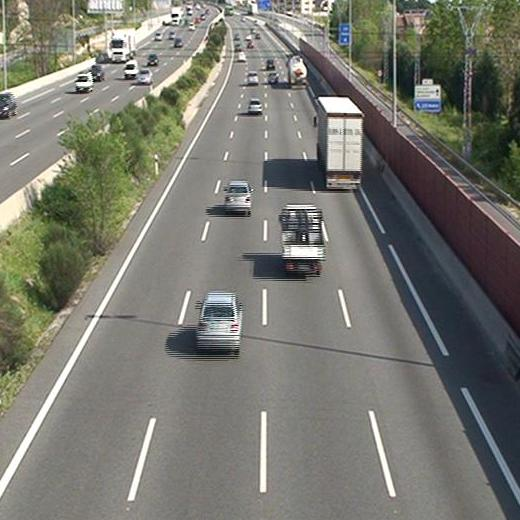car: (197, 294, 242, 352), (224, 180, 251, 211), (247, 98, 261, 112), (248, 71, 259, 85), (268, 71, 277, 85), (236, 51, 246, 62), (266, 58, 276, 69)
small-truck: (282, 206, 325, 274)
tank-truck: (287, 56, 307, 89)
truck: (316, 97, 360, 190)
